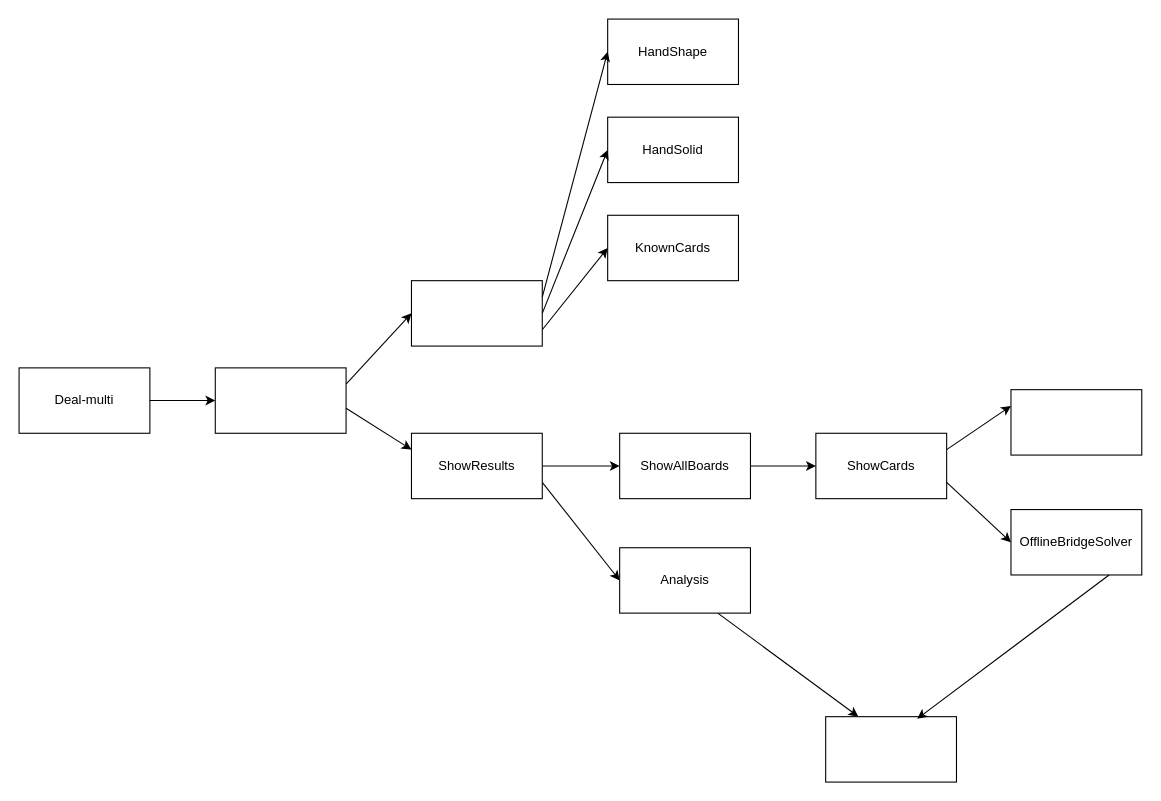
The diagram is 1161 pixels wide and 801 high, and some of its shapes have lost their labels. Each missing label, with the centre of its shape:
"DealWithHands" goes at (280,400).
"HandSetting" goes at (476,313).
"ShowOneHand" goes at (1076,422).
"ShowTricks" goes at (890,749).
